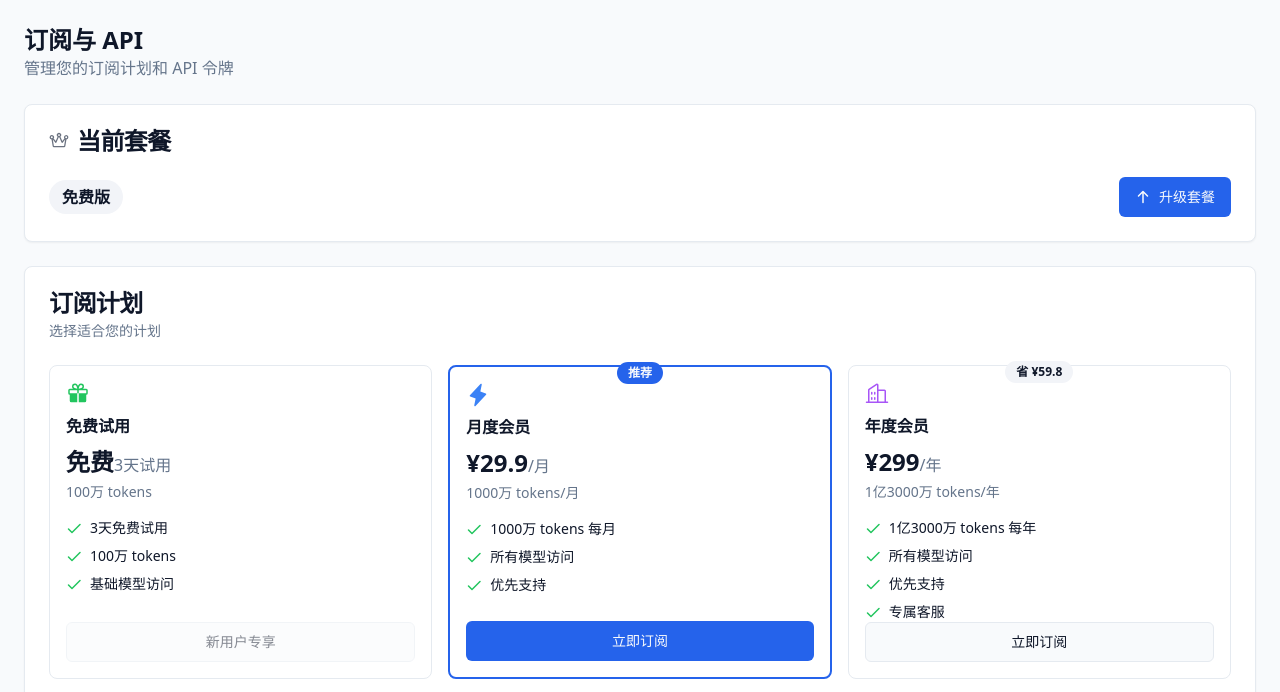
Test: Subscription page › shows the same login prompts from the subscription plans CTA when unauthenticated
The image size is (1280, 692).
What coordinates should you click on to do the following:
click the button "立即订阅" below "1000万 tokens 每月"
I would click on:
 (640, 641)
Its box is [466, 621, 814, 661].
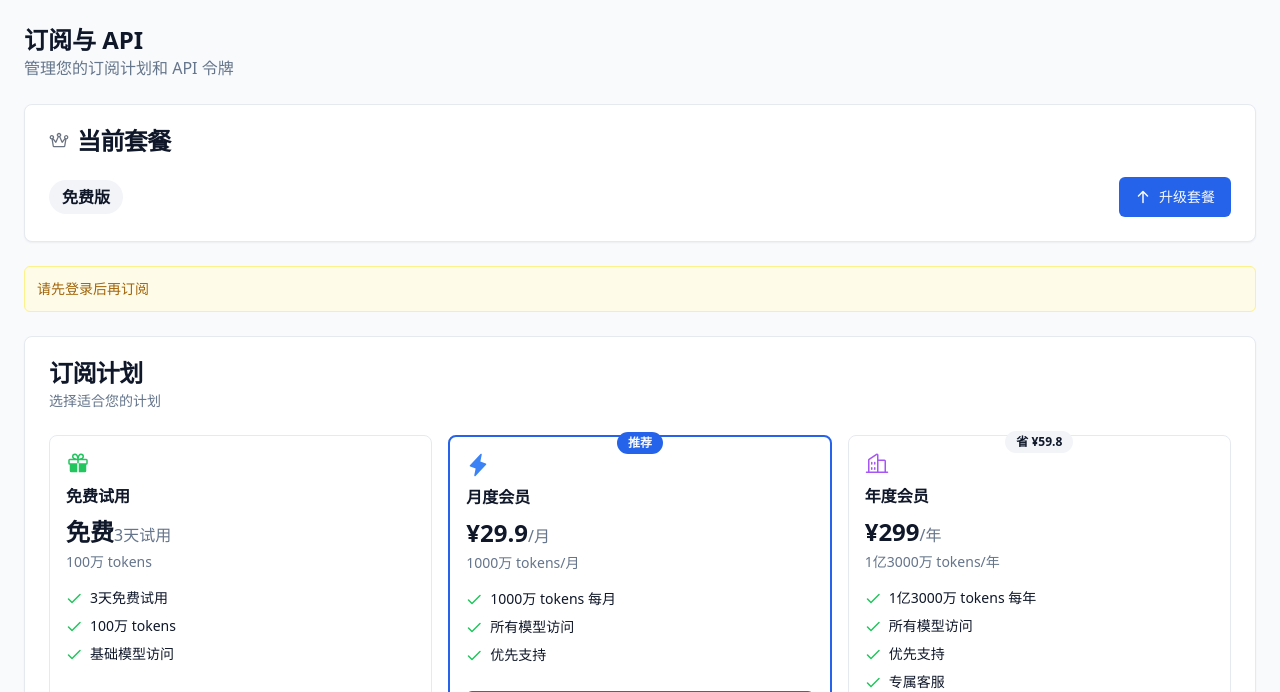
Result: the text "请先登录后再订阅" is shown at [24, 266, 1256, 312]
